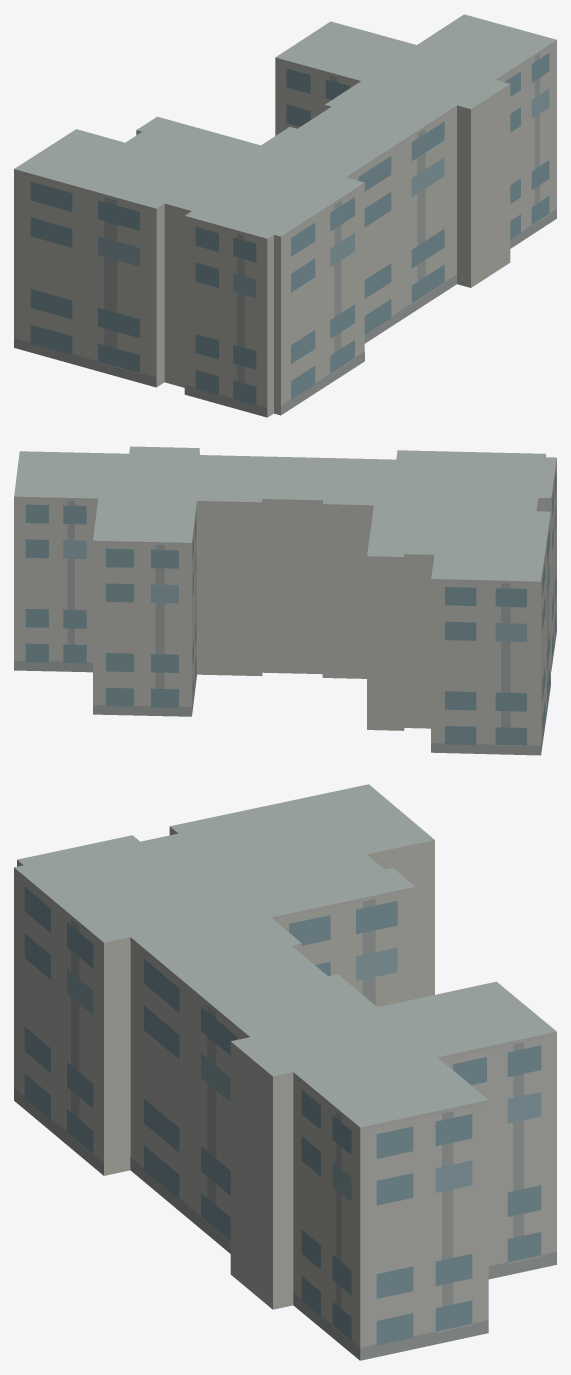
File: residential-e4448bee-bc44-41c4-9664-48f6a3b936f6.glb
3 renders of one model, top to bottom at view 1: azimuth 30°, elevation 25°; view 2: azimuth 150°, elevation 25°; view 3: azimuth 270°, elevation 25°, orthographic. The views are drawn at different scales.
Parts seen in each view (by area): view 1: residential-e4448bee-bc44-41c4-9664-48f6a3b936f6.tmp; view 2: residential-e4448bee-bc44-41c4-9664-48f6a3b936f6.tmp; view 3: residential-e4448bee-bc44-41c4-9664-48f6a3b936f6.tmp.
Boxes of the visible parts, left/top/right/bottom form: residential-e4448bee-bc44-41c4-9664-48f6a3b936f6.tmp: left=14, top=14, right=556, bottom=417; residential-e4448bee-bc44-41c4-9664-48f6a3b936f6.tmp: left=14, top=446, right=556, bottom=755; residential-e4448bee-bc44-41c4-9664-48f6a3b936f6.tmp: left=14, top=784, right=556, bottom=1360.
Size of the model in its own units: 48.16 by 15.25 by 32.18.
